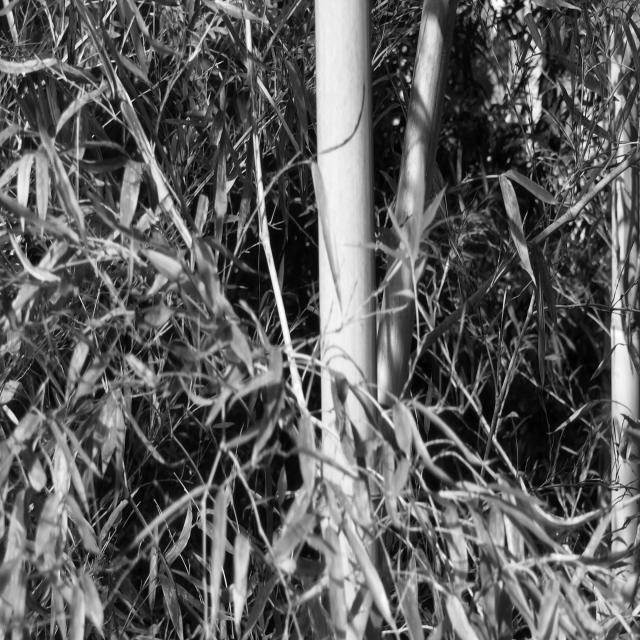Bamboo-shoots: (314, 0, 378, 640)
